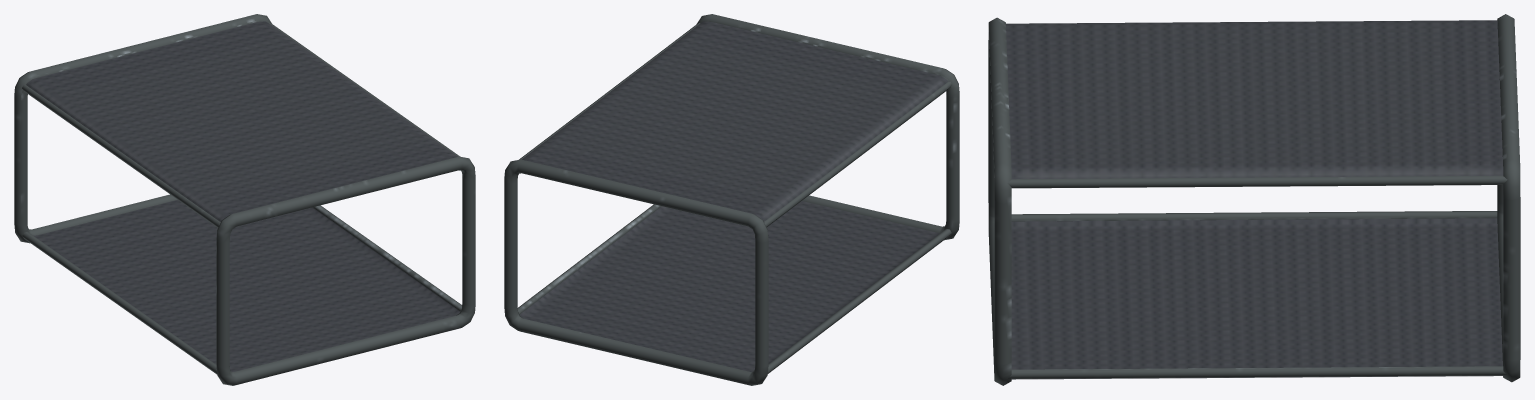
File: table3.fbx
3 views of the same model, side by side, from view 1: azimuth 30°, elevation 25°; view 2: azimuth 150°, elevation 25°; view 3: azimuth 270°, elevation 25° (orthographic). The views are drawn at different scales.
Visible parts, largest first — view 1: pCube815.006; view 2: pCube815.006; view 3: pCube815.006.
Boxes of the visible parts, <box> form: pCube815.006: <box>14,14,475,385</box>; pCube815.006: <box>504,14,959,385</box>; pCube815.006: <box>988,14,1520,385</box>.
Size of the model in its own units: 0.8474 by 0.5218 by 1.13.
1 material, 1 textured.
